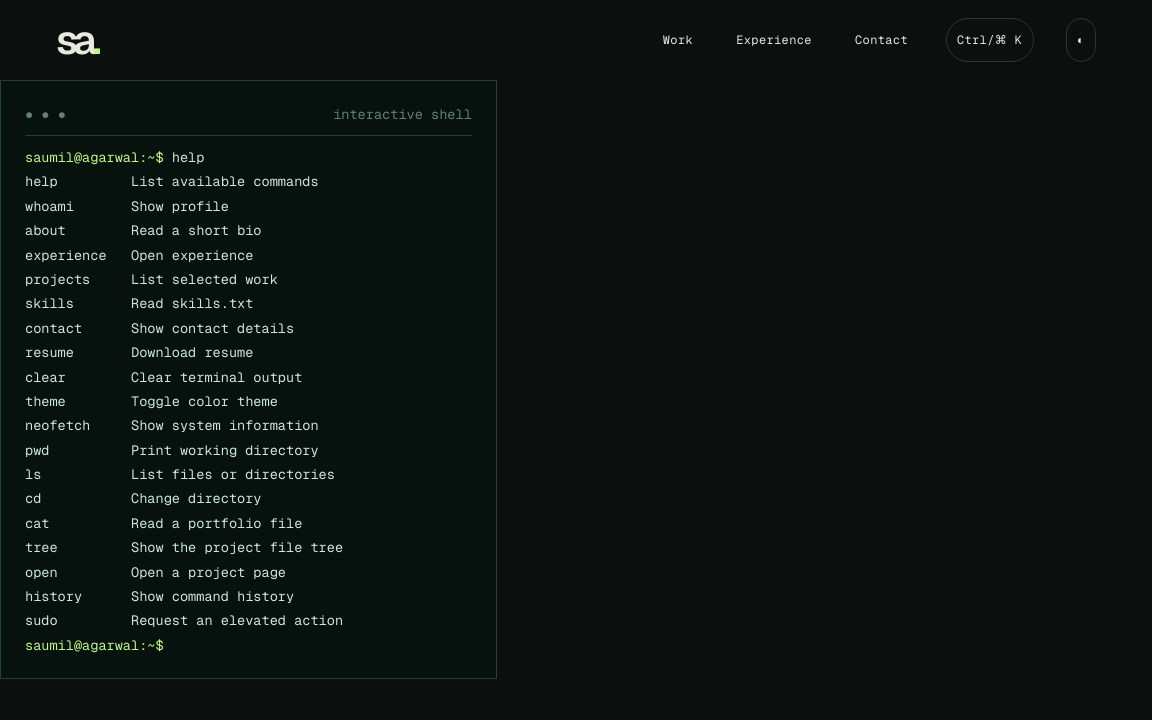
does not cancel a palette command when the terminal form submits during typing
Click the button with aria-label "open command palette" at {"x": 990, "y": 40}, box [946,18,1034,62]
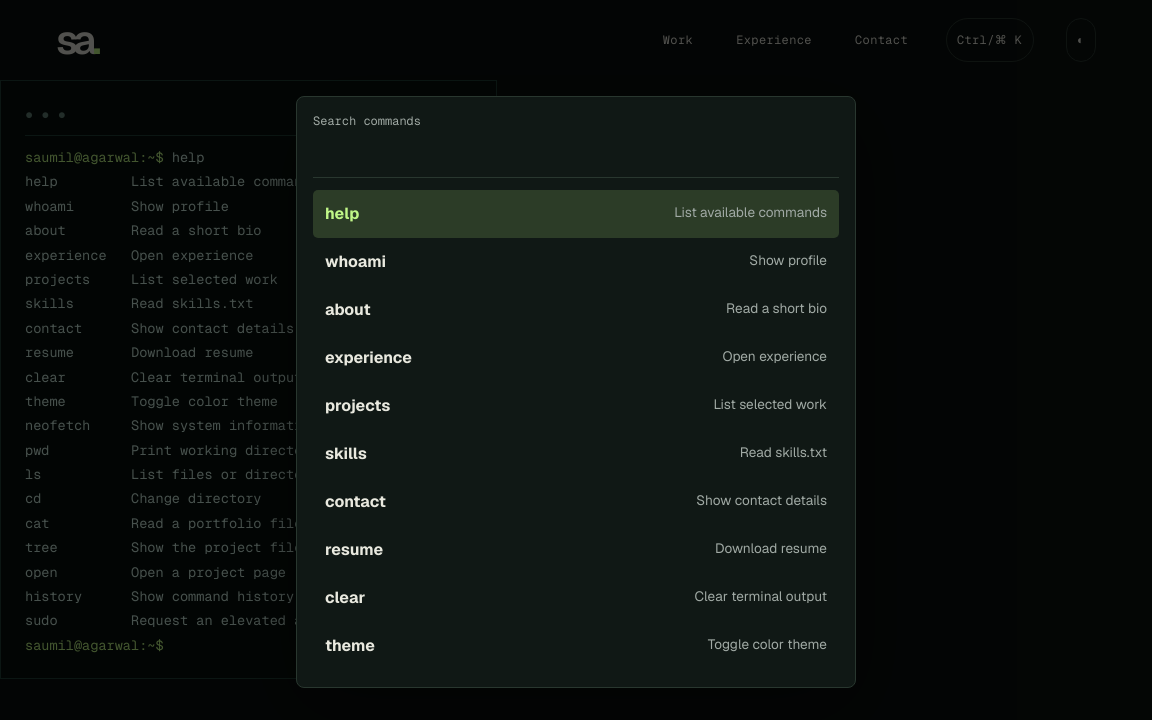
Type "whoami" into the dropdown labelled "Search commands" at {"x": 576, "y": 154}, box [313,129,839,178]
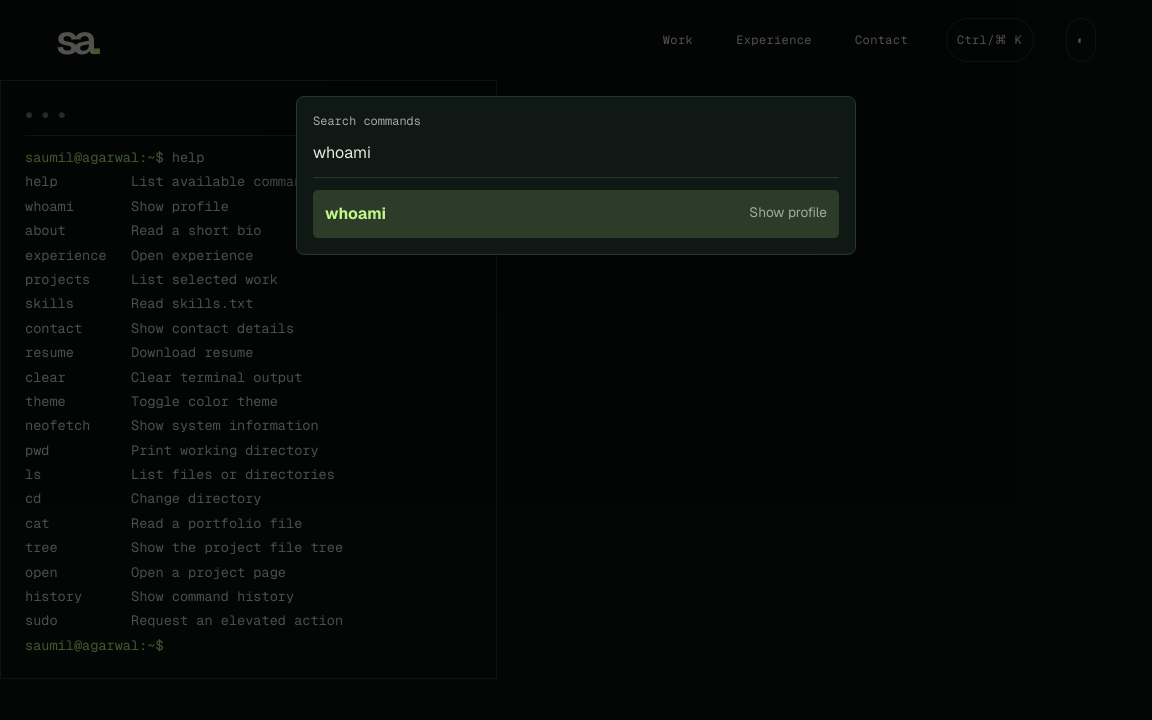
Click the option "whoami Show profile" at {"x": 356, "y": 214}, box [313,190,839,238]
Wait 35 ms
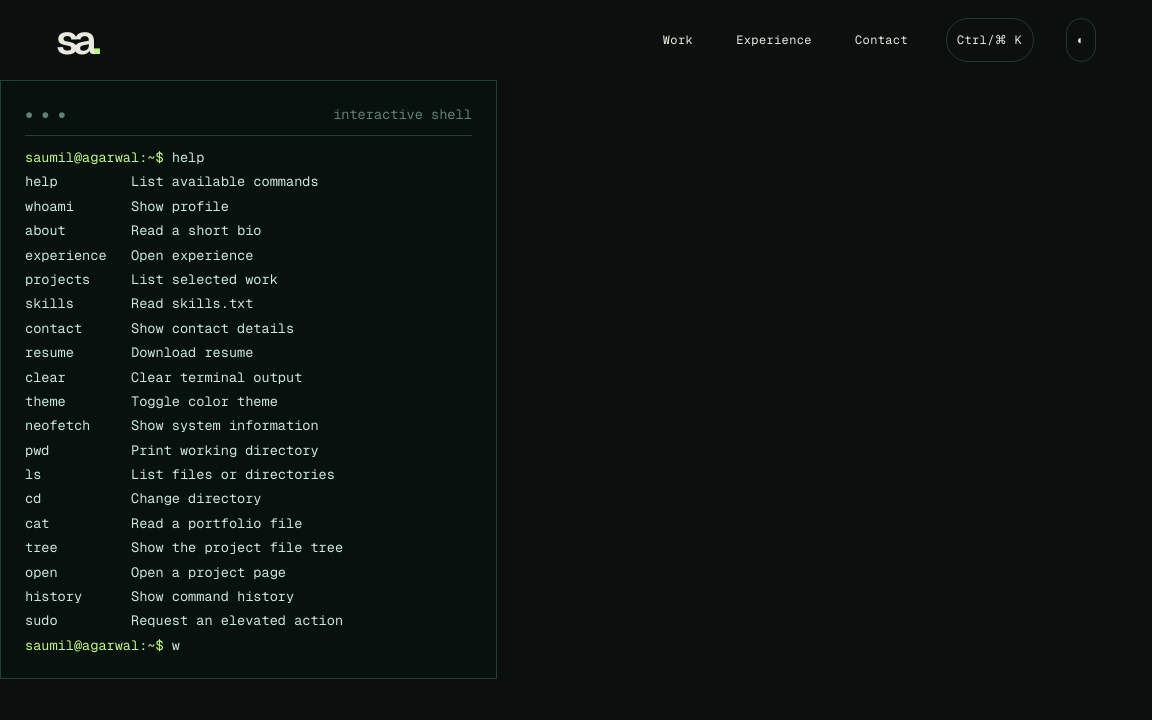
Submit the form named "terminal command", box [25,636,472,654]
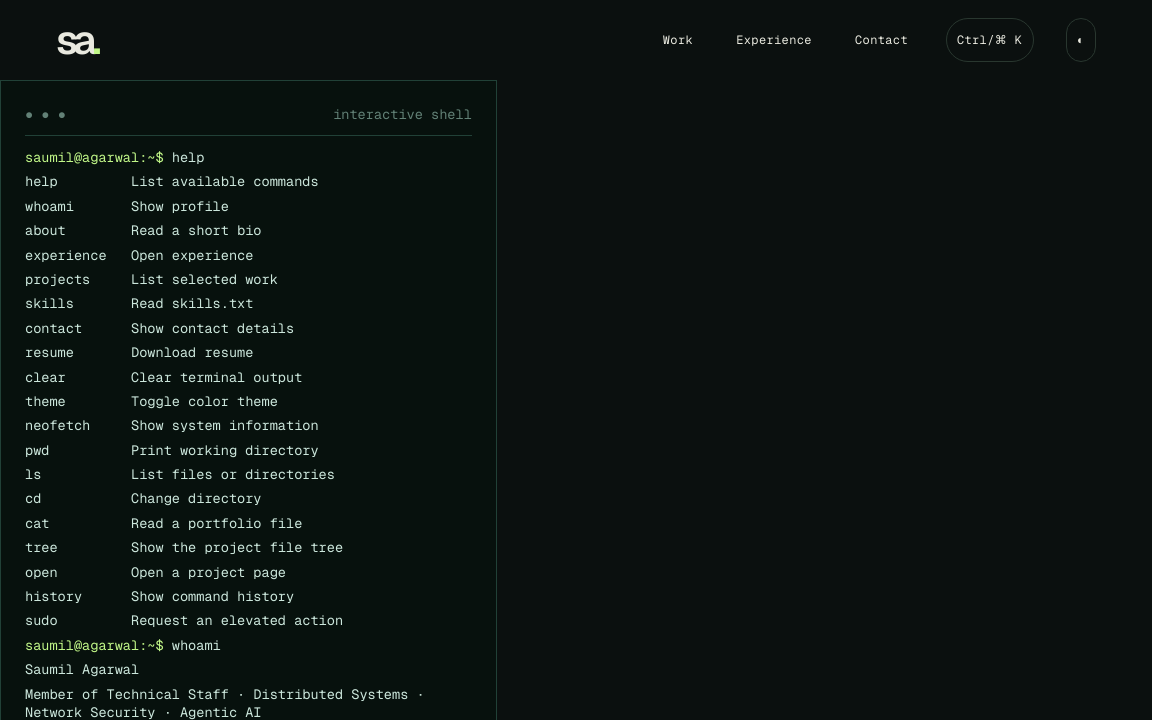
expect the text "Saumil Agarwal" is shown: met, box [25,660,139,678]
